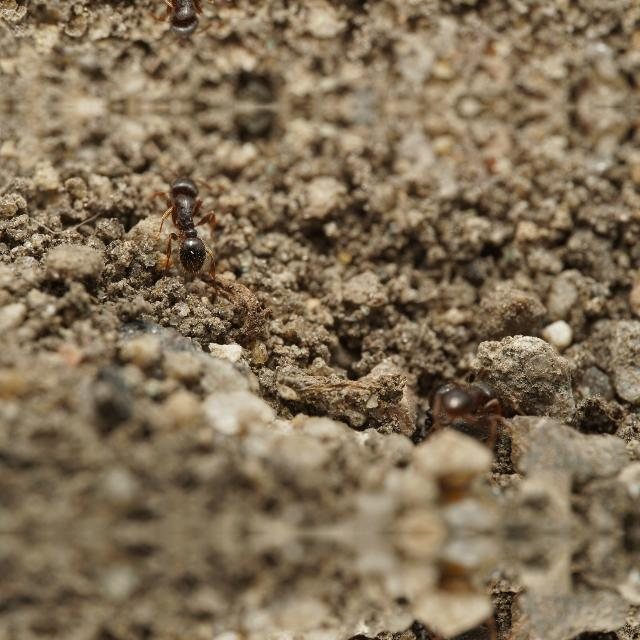Tetramorium: (147, 163, 233, 293), (418, 360, 518, 446), (147, 0, 233, 48), (418, 618, 518, 640)
